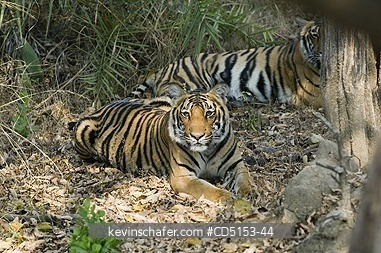tigre: (74, 83, 255, 209), (126, 16, 324, 107)
